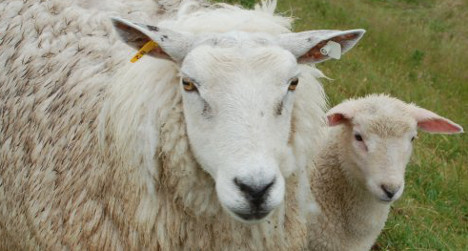koyun: (113, 6, 324, 233), (328, 74, 466, 242)
